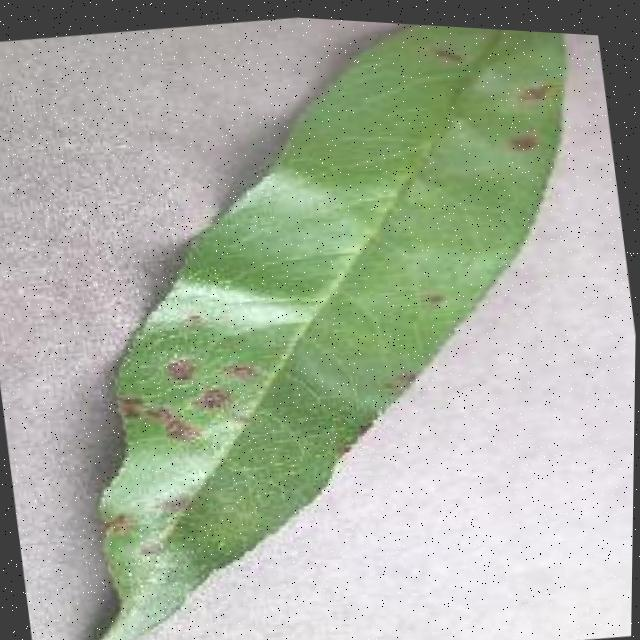Bacterial_spot: (112, 383, 208, 454), (148, 348, 213, 400), (417, 33, 474, 79), (187, 381, 241, 427), (489, 124, 548, 165), (94, 509, 146, 553), (512, 70, 556, 119), (223, 359, 265, 401)
